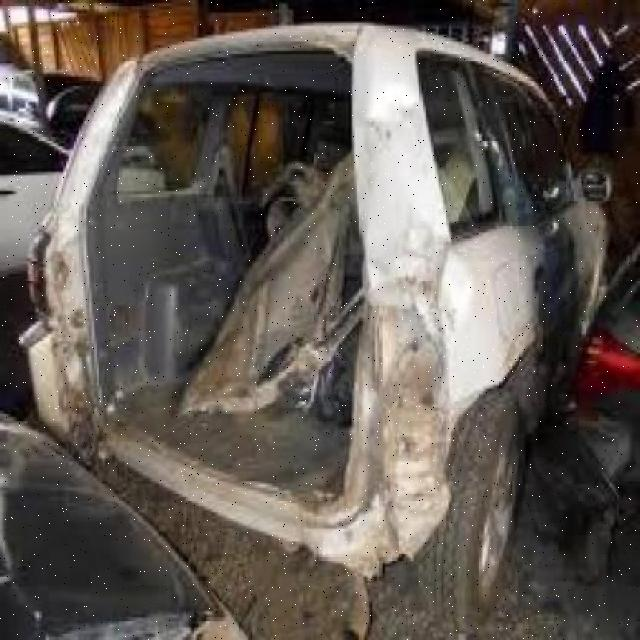damage: (23, 25, 461, 586)
